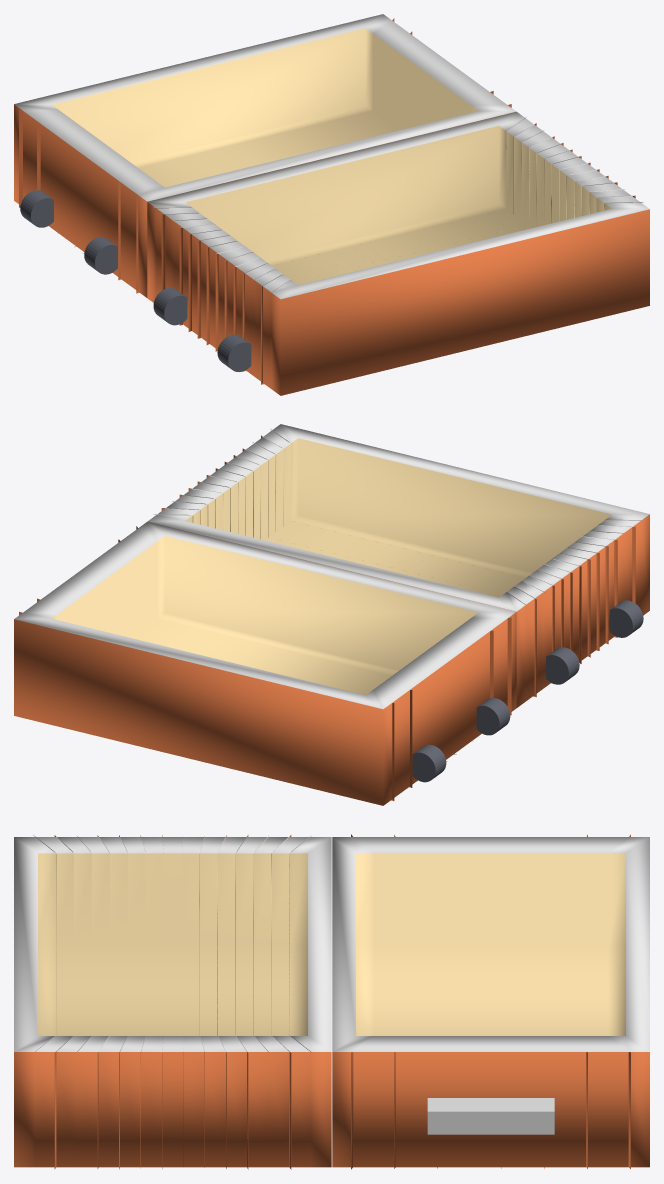
File: valigia1Piccola.glb
3 renders of one model, top to bottom at view 1: azimuth 30°, elevation 25°; view 2: azimuth 150°, elevation 25°; view 3: azimuth 270°, elevation 25°, orthographic. The views are drawn at different scales.
Parts seen in each view (by area): view 1: Cube.002; view 2: Cube.002; view 3: Cube.002.
Part boxes in pixels (x1,y1,x2,y2): Cube.002: (14, 14, 649, 395); Cube.002: (14, 424, 649, 805); Cube.002: (14, 834, 649, 1169).
Bounding box in the file's own units: 0.45 × 0.102 × 0.5003.
